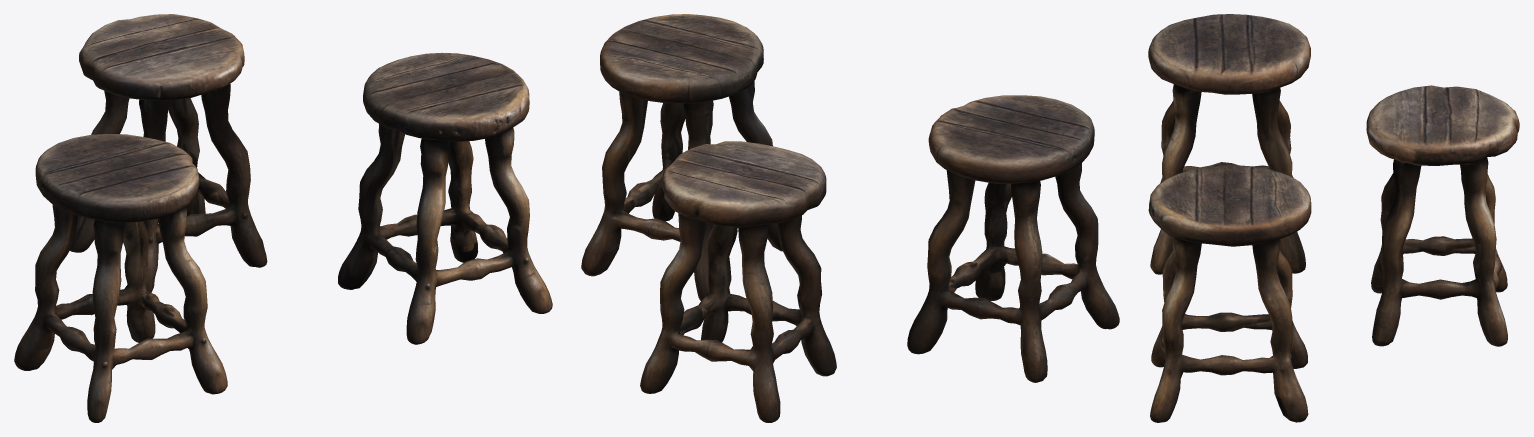
File: creepy_very_old_woode_0124130354_texture.fbx
The picture shows the model from 3 angles, left to right: view 1: azimuth 30°, elevation 25°; view 2: azimuth 150°, elevation 25°; view 3: azimuth 270°, elevation 25°; orthographic projection. The views are drawn at different scales.
Parts seen in each view (by area): view 1: Mesh1_Mesh1.006; view 2: Mesh1_Mesh1.006; view 3: Mesh1_Mesh1.006.
Boxes of the visible parts, x1=… form: Mesh1_Mesh1.006: x1=14, y1=14, x2=552, y2=422; Mesh1_Mesh1.006: x1=581, y1=14, x2=1119, y2=422; Mesh1_Mesh1.006: x1=1148, y1=14, x2=1519, y2=422.
Size of the model in its own units: 2293 by 1000 by 1670.
Materials: 1 (1 with a texture image).
